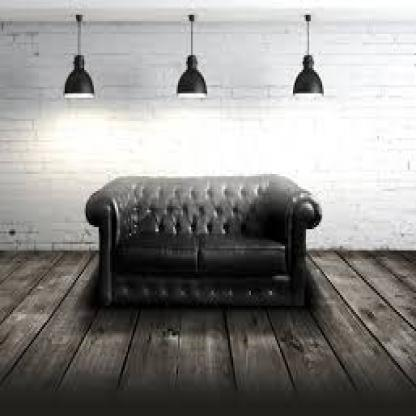sofa: (78, 172, 319, 318)
